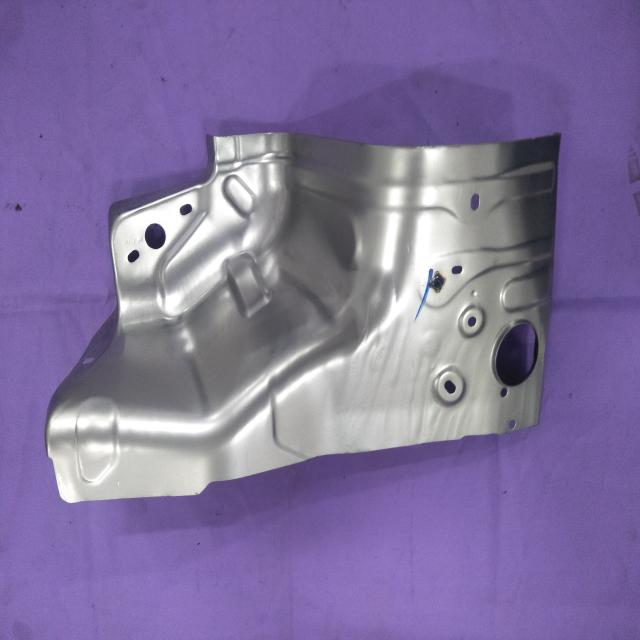Healthy: (44, 125, 562, 504)
